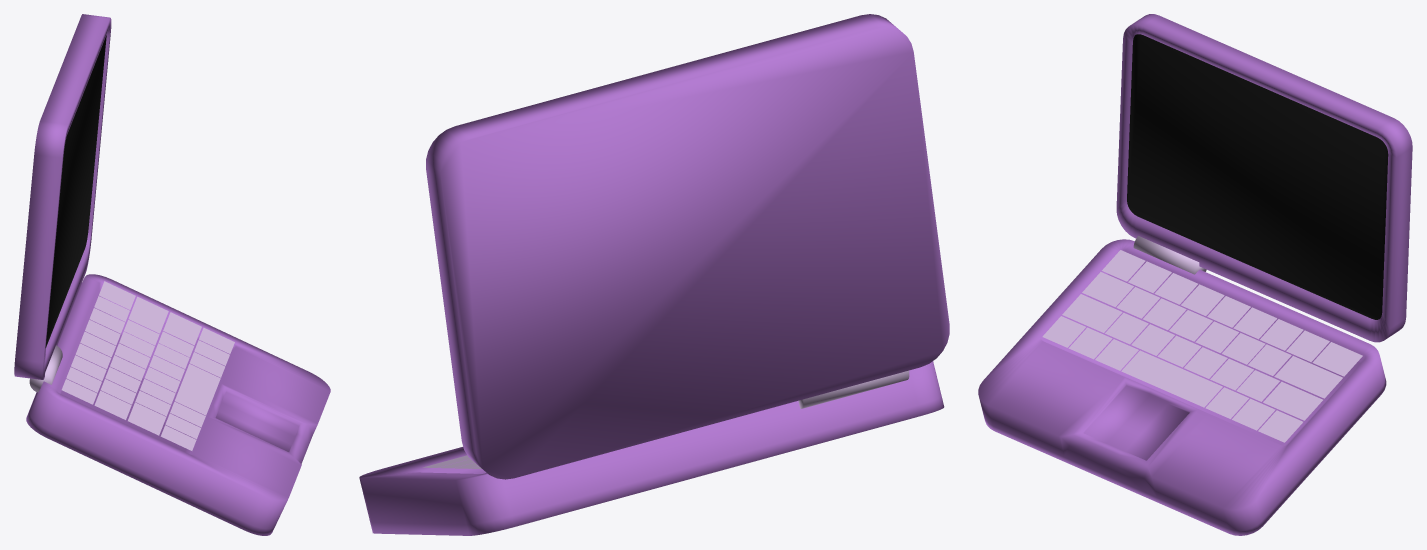
The model's file is 1Macbook.glb.
The picture shows the model from 3 angles, left to right: view 1: azimuth 30°, elevation 25°; view 2: azimuth 150°, elevation 25°; view 3: azimuth 270°, elevation 25°; orthographic projection. The views are drawn at different scales.
Parts seen in each view (by area): view 1: Macbook, Cube.003, Plane, Cylinder; view 2: Cube.003, Macbook, Cylinder; view 3: Cube.003, Macbook, Plane, Cylinder.
Part boxes in pixels (box(x1,y1,x2,y2)): Macbook: box(26, 274, 330, 535); Cube.003: box(14, 14, 111, 379); Plane: box(61, 281, 234, 450); Cylinder: box(29, 345, 62, 392); Cube.003: box(426, 14, 949, 479); Macbook: box(359, 361, 944, 535); Cylinder: box(798, 370, 909, 408); Cube.003: box(1116, 14, 1412, 342); Macbook: box(978, 239, 1386, 535); Plane: box(1042, 250, 1362, 442); Cylinder: box(1133, 236, 1206, 274).
Size of the model in its own units: 3.33 by 3.53 by 3.67.
